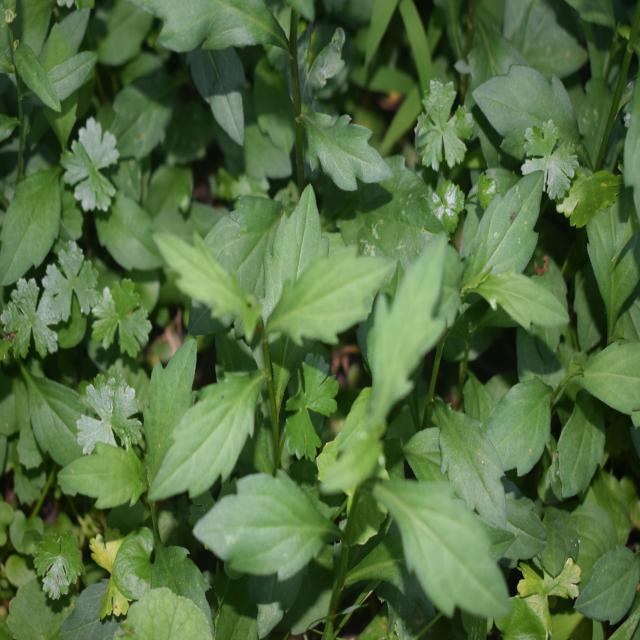Indian aster: (382, 168, 574, 353), (473, 306, 634, 496)
